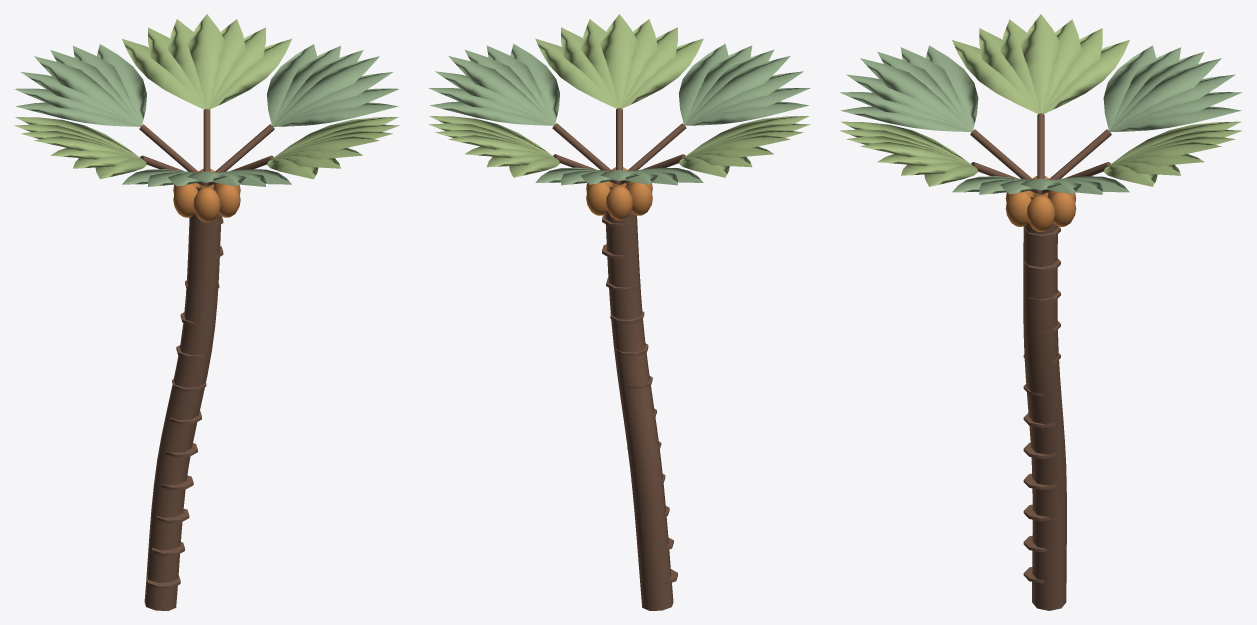
Rendered from fan-palm.glb.
The picture shows the model from 3 angles, left to right: view 1: azimuth 30°, elevation 25°; view 2: azimuth 150°, elevation 25°; view 3: azimuth 270°, elevation 25°; orthographic projection. The views are drawn at different scales.
Parts seen in each view (by area): view 1: Vesper / fan-palm; view 2: Vesper / fan-palm; view 3: Vesper / fan-palm.
Boxes of the visible parts, <box> form: Vesper / fan-palm: <box>14,14,399,610</box>; Vesper / fan-palm: <box>428,14,810,610</box>; Vesper / fan-palm: <box>839,14,1242,610</box>.
Size of the model in its own units: 6.08 by 8.4 by 5.88.
